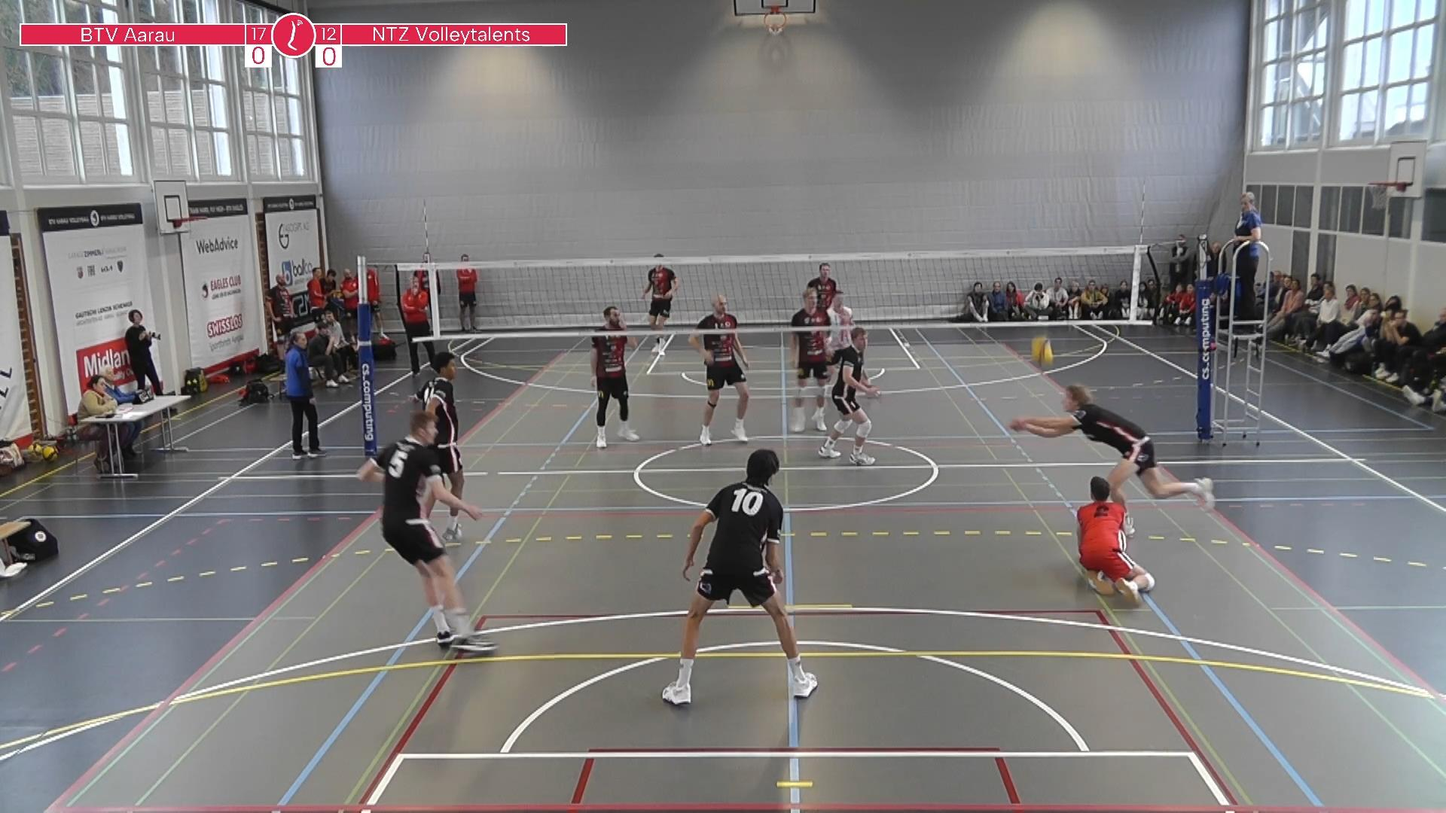difesa: (1005, 381, 1218, 534)
